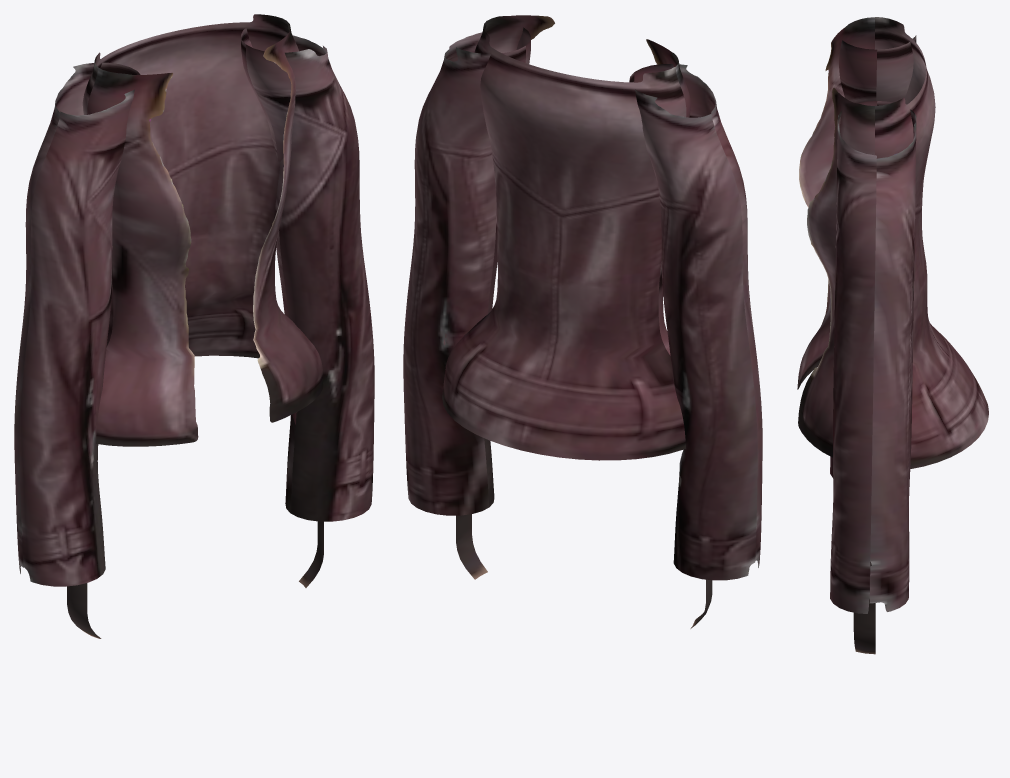
Rendered from prod-ae-burgundy-leather-trench.glb.
3 renders of one model, left to right at view 1: azimuth 30°, elevation 25°; view 2: azimuth 150°, elevation 25°; view 3: azimuth 270°, elevation 25°, orthographic. The views are drawn at different scales.
Parts seen in each view (by area): view 1: prod-ae-burgundy-leather-trench; view 2: prod-ae-burgundy-leather-trench; view 3: prod-ae-burgundy-leather-trench.
Part boxes in pixels (<box>): prod-ae-burgundy-leather-trench: <box>14,14,374,638</box>; prod-ae-burgundy-leather-trench: <box>403,15,762,628</box>; prod-ae-burgundy-leather-trench: <box>797,17,988,654</box>.
Size of the model in its own units: 0.4267 by 0.802 by 0.2239.
Materials: 1 (1 with a texture image).
